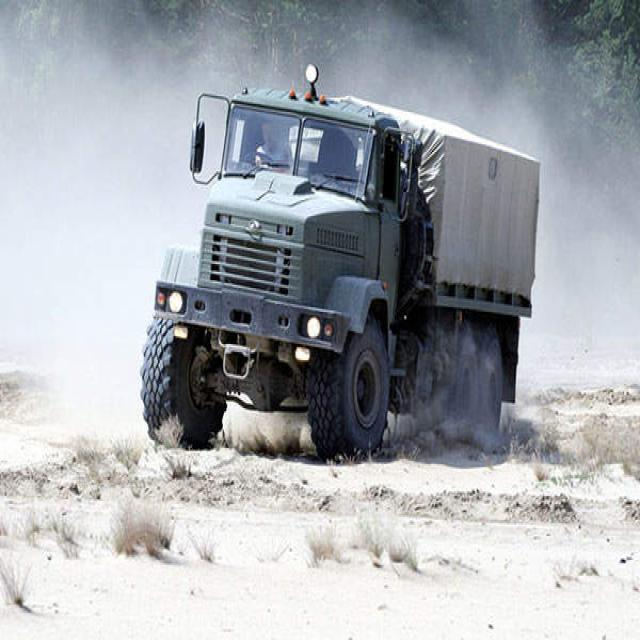truck: (141, 68, 539, 458)
